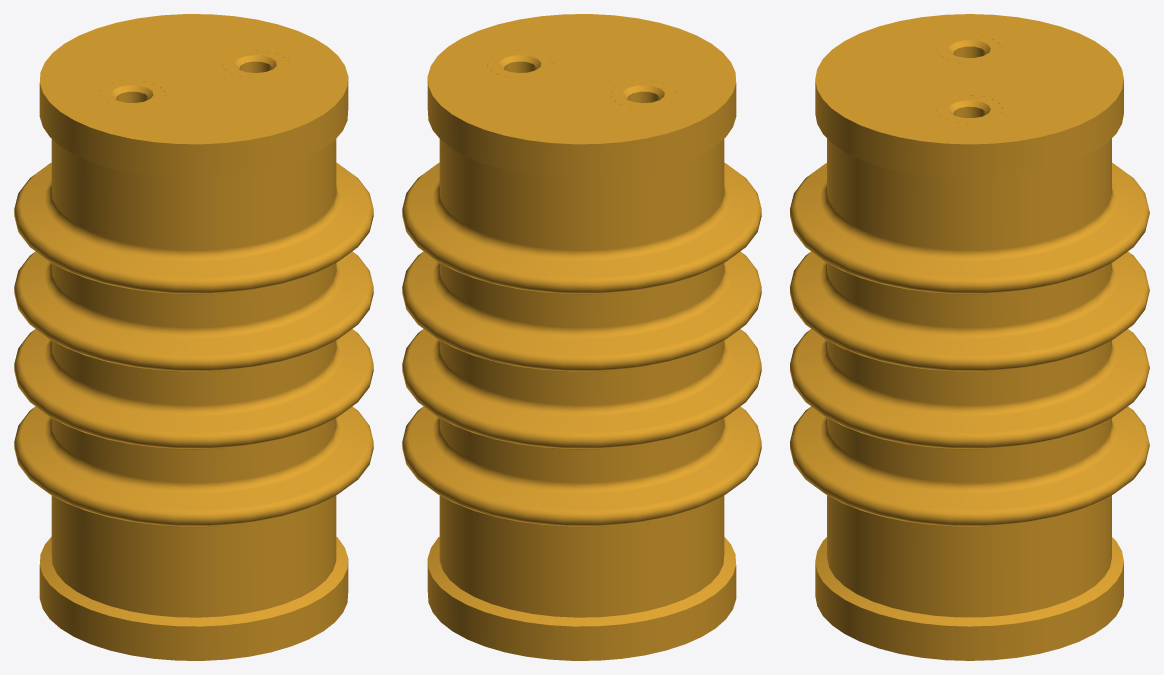
File: 04.1_izolyator-opornyy-io-10-75.glb
3 renders of one model, left to right at view 1: azimuth 30°, elevation 25°; view 2: azimuth 150°, elevation 25°; view 3: azimuth 270°, elevation 25°, orthographic.
Parts seen in each view (by area): view 1: 04.1_izolyator-opornyy-io-10-75; view 2: 04.1_izolyator-opornyy-io-10-75; view 3: 04.1_izolyator-opornyy-io-10-75.
Part boxes in pixels (x1,y1,x2,y2): 04.1_izolyator-opornyy-io-10-75: (14,14,373,660); 04.1_izolyator-opornyy-io-10-75: (402,14,761,660); 04.1_izolyator-opornyy-io-10-75: (790,14,1149,660).
Bounding box in the file's own units: 75.21 × 120 × 75.79.
